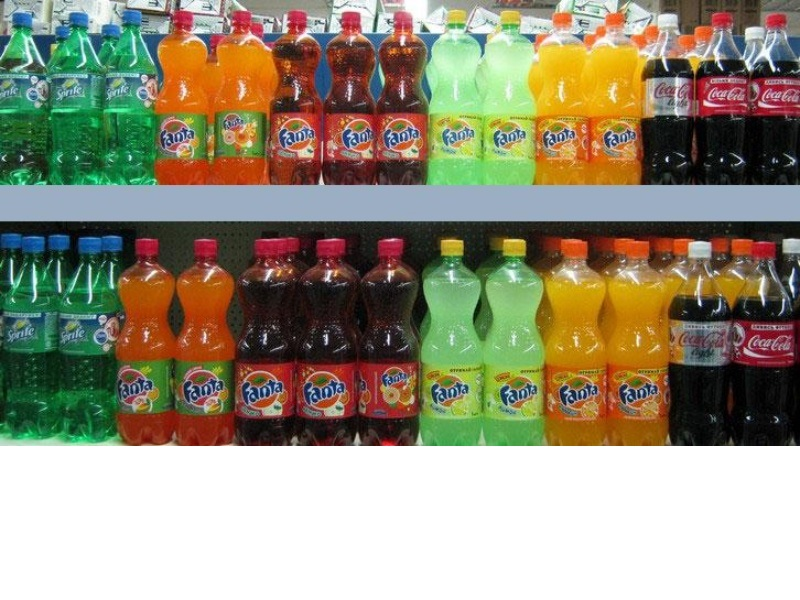lemonade: (407, 237, 499, 455), (535, 235, 620, 460), (105, 230, 190, 450), (349, 230, 432, 453), (225, 240, 308, 449), (665, 240, 743, 454), (285, 239, 365, 447), (51, 232, 129, 443), (477, 235, 553, 451), (170, 231, 243, 455), (604, 240, 680, 453), (145, 8, 226, 193), (686, 13, 767, 192), (731, 237, 793, 461), (1, 234, 67, 444), (479, 10, 553, 195), (418, 9, 493, 190), (204, 8, 275, 192), (582, 9, 653, 189), (533, 5, 602, 190), (264, 6, 333, 189), (101, 4, 167, 191), (371, 5, 435, 196), (322, 11, 386, 193), (639, 8, 701, 191)
